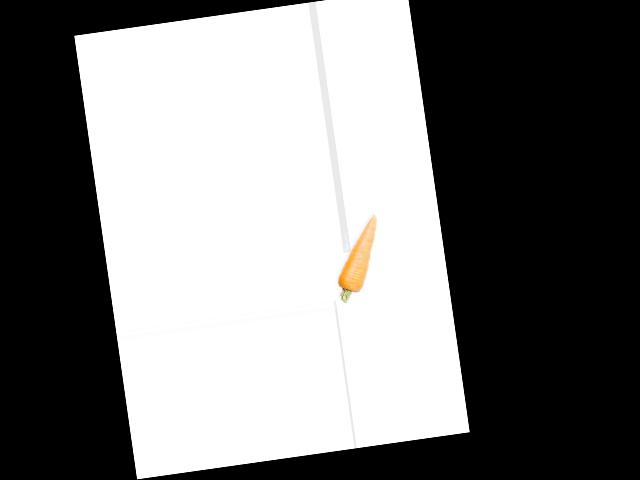carrot: (327, 213, 389, 303)
